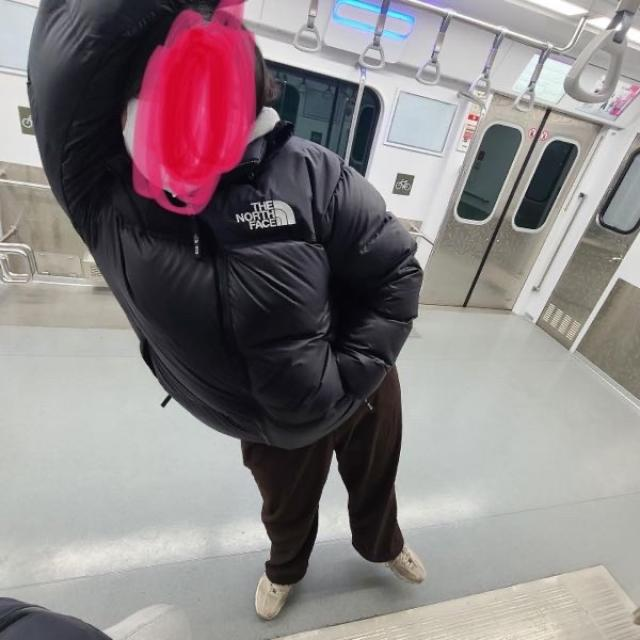cottonpants: (239, 353, 412, 582)
padding: (27, 0, 425, 452)
